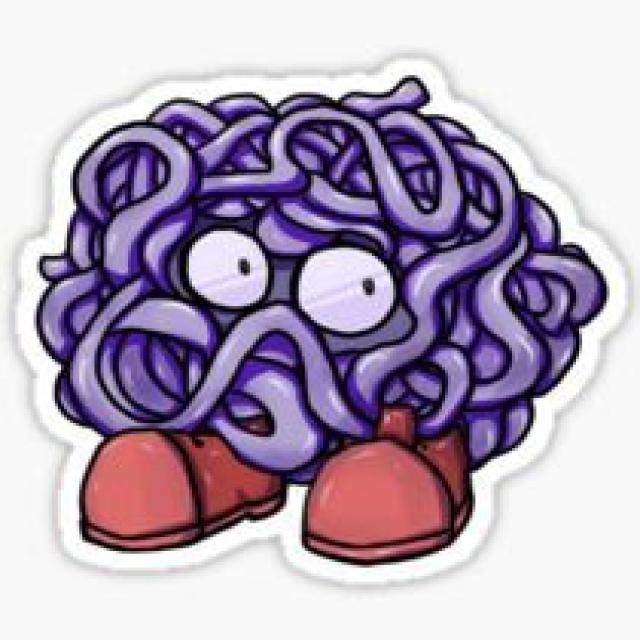Tangela: (19, 67, 615, 567)
